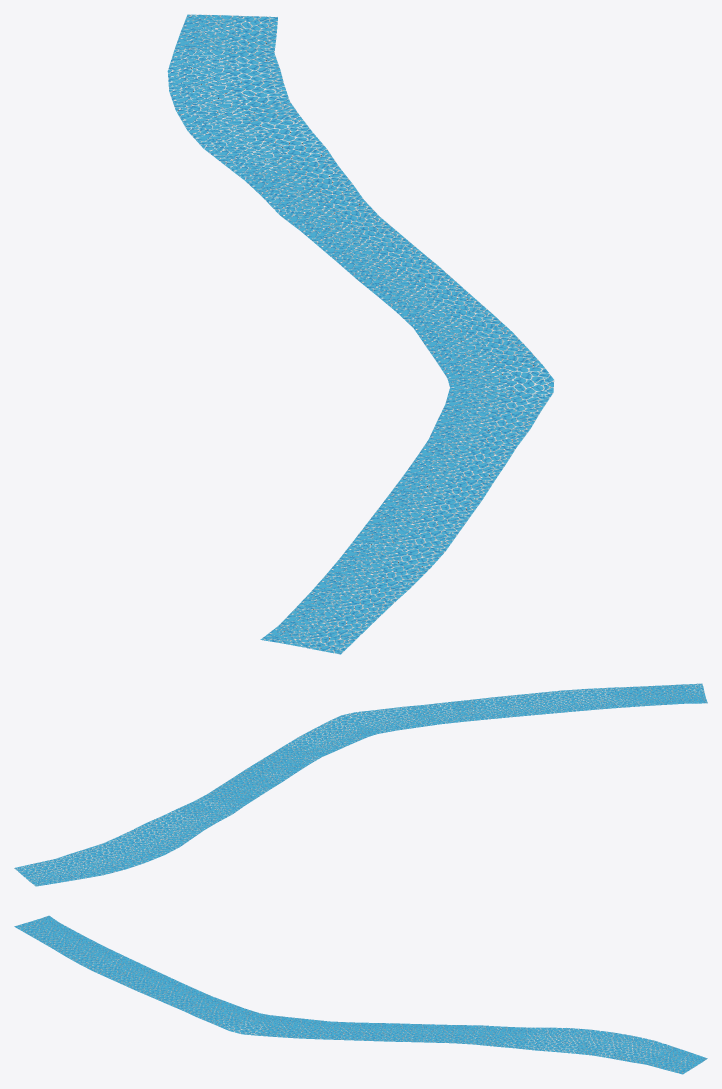
The picture shows the model from 3 angles, top to bottom: view 1: azimuth 30°, elevation 25°; view 2: azimuth 150°, elevation 25°; view 3: azimuth 270°, elevation 25°; orthographic projection. The views are drawn at different scales.
Visible parts, largest first — view 1: River_Mesh.013, River_Mesh_Upper.013; view 2: River_Mesh.013, River_Mesh_Upper.013; view 3: River_Mesh.013, River_Mesh_Upper.013.
Part boxes in pixels (left/top/right/bottom): River_Mesh.013: left=167, top=14, right=554, bottom=654; River_Mesh_Upper.013: left=168, top=14, right=554, bottom=653; River_Mesh.013: left=14, top=683, right=707, bottom=886; River_Mesh_Upper.013: left=14, top=683, right=707, bottom=885; River_Mesh.013: left=14, top=915, right=707, bottom=1074; River_Mesh_Upper.013: left=16, top=916, right=706, bottom=1073.
Size of the model in its own units: 156 by 0.0809 by 288.
2 materials, 2 textured.
